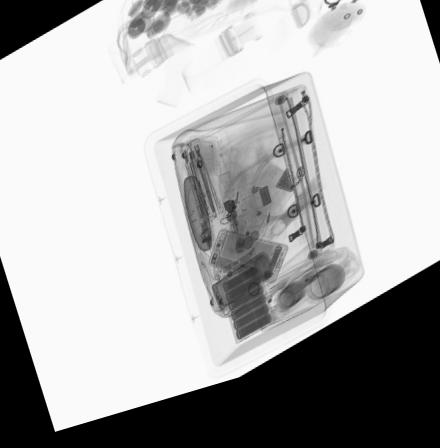Powerbank: (213, 262, 278, 359)
